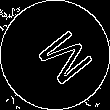M_SW: (21, 21, 89, 89)
